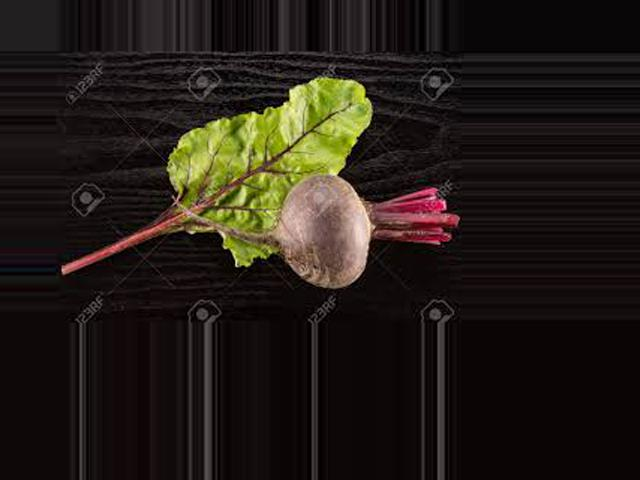beet: (172, 174, 460, 288)
